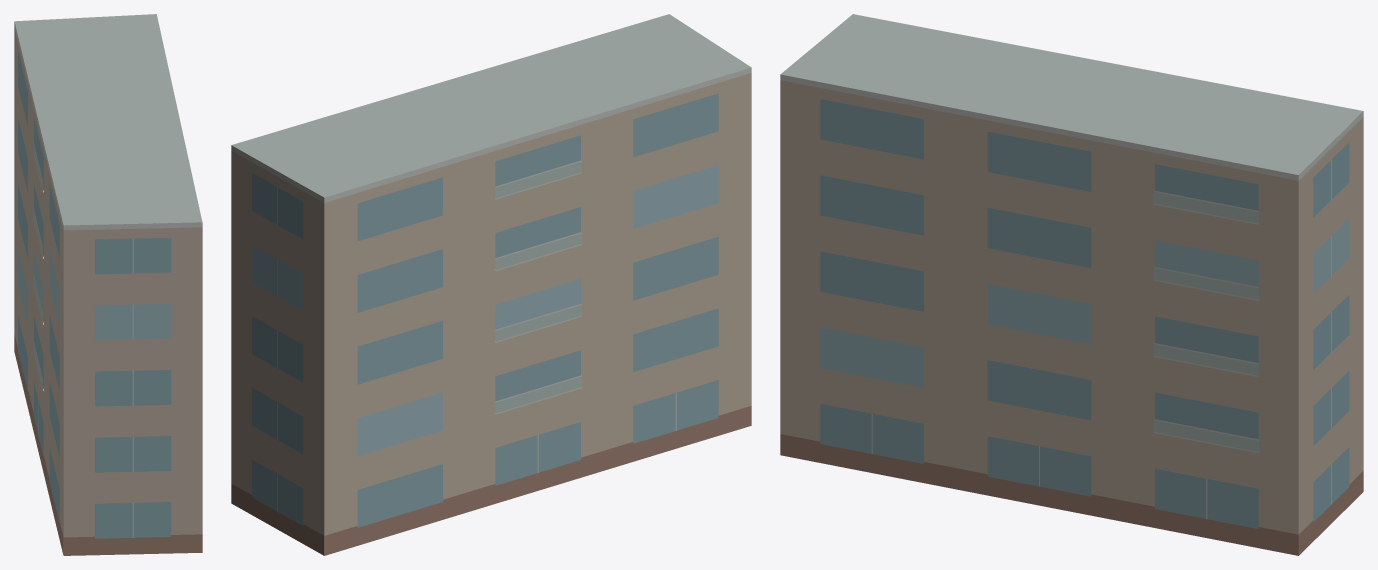
File: survey-upis-32523484.glb
The picture shows the model from 3 angles, left to right: view 1: azimuth 30°, elevation 25°; view 2: azimuth 150°, elevation 25°; view 3: azimuth 270°, elevation 25°; orthographic projection. The views are drawn at different scales.
Parts seen in each view (by area): view 1: survey-upis-32523484.tmp; view 2: survey-upis-32523484.tmp; view 3: survey-upis-32523484.tmp.
Part boxes in pixels (<box>): survey-upis-32523484.tmp: <box>14,14,202,555</box>; survey-upis-32523484.tmp: <box>231,14,751,555</box>; survey-upis-32523484.tmp: <box>780,14,1363,555</box>.
Size of the model in its own units: 14.8 by 16.3 by 22.64.
